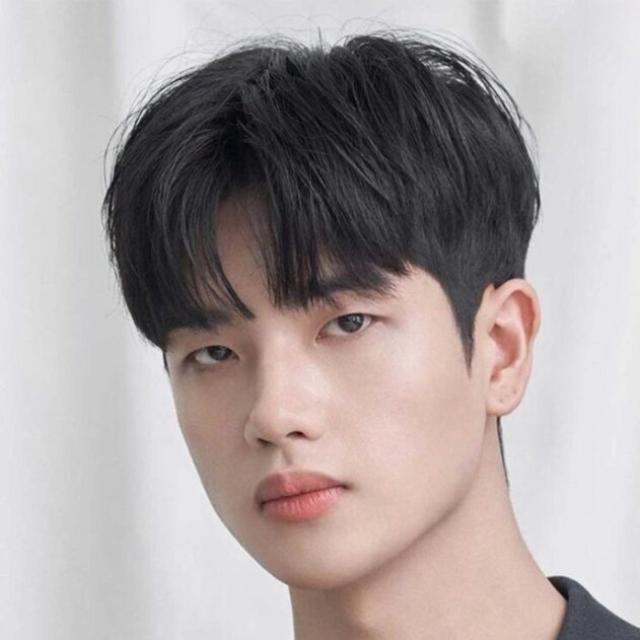Nonhelmet: (86, 24, 547, 607)
